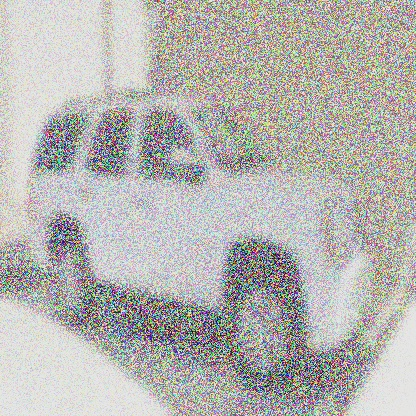Vehicle: (27, 90, 372, 394)
